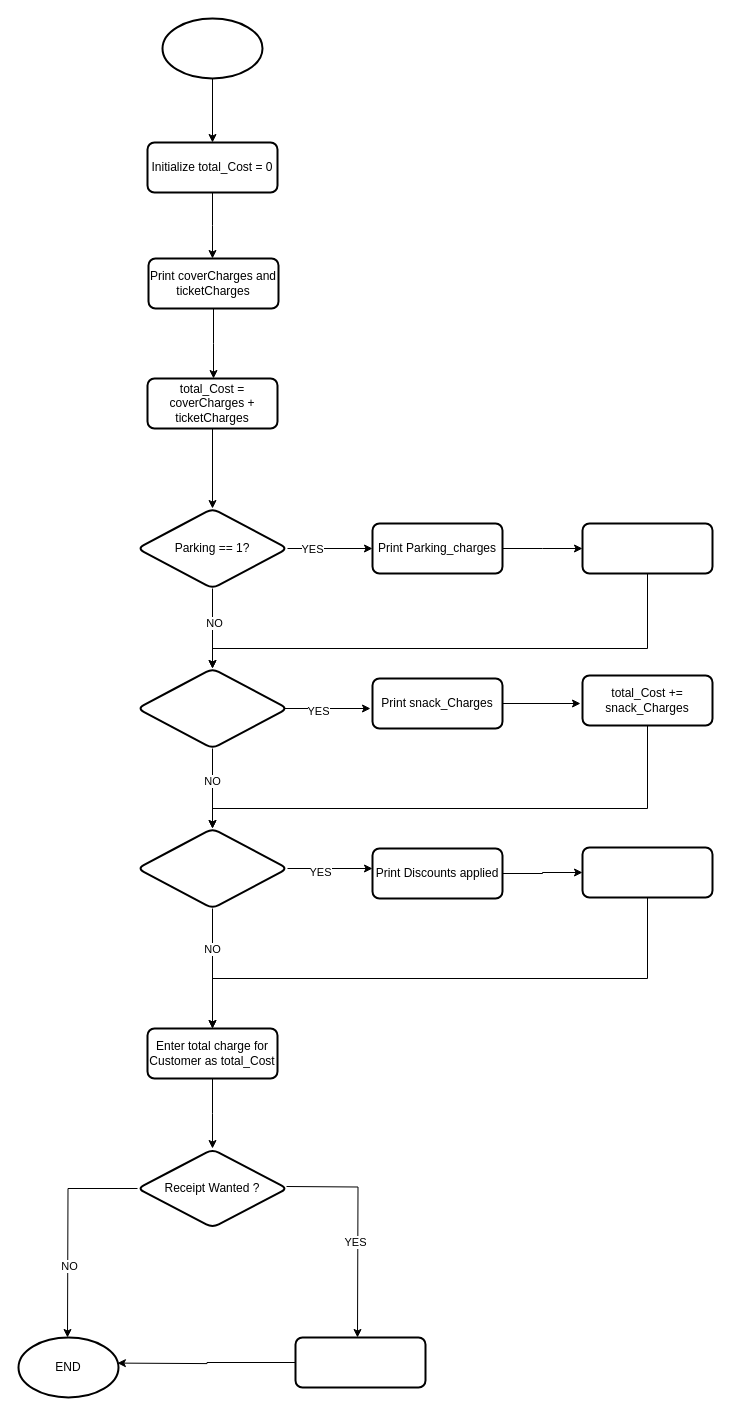
This 730x1415 diagram has some shape labels left out. Each missing label, with the box of its shape:
Discounts applied ?: (136, 827, 288, 909)
Print receipt: (294, 1336, 426, 1388)
Snack == 1?: (136, 667, 288, 749)
START: (161, 17, 263, 79)
total_Cost += parking_Charges: (581, 522, 713, 574)
total_Cost -= Discounts applied: (581, 846, 713, 898)
